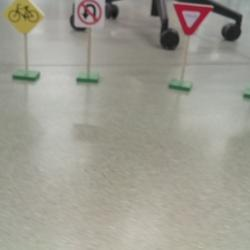bicycle: (2, 0, 44, 34)
no_u_turn: (74, 0, 105, 29)
yield: (173, 2, 214, 35)
